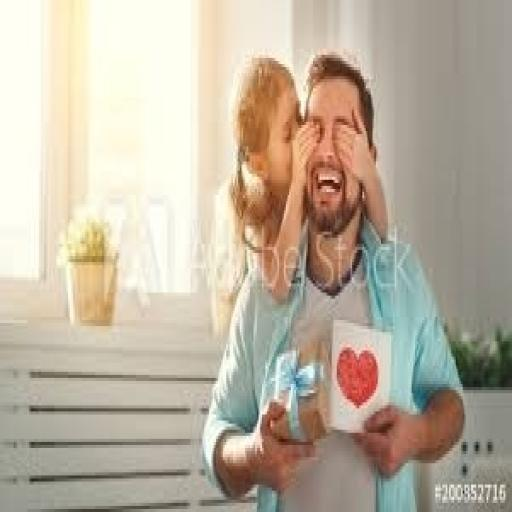hugging: (199, 49, 466, 509)
